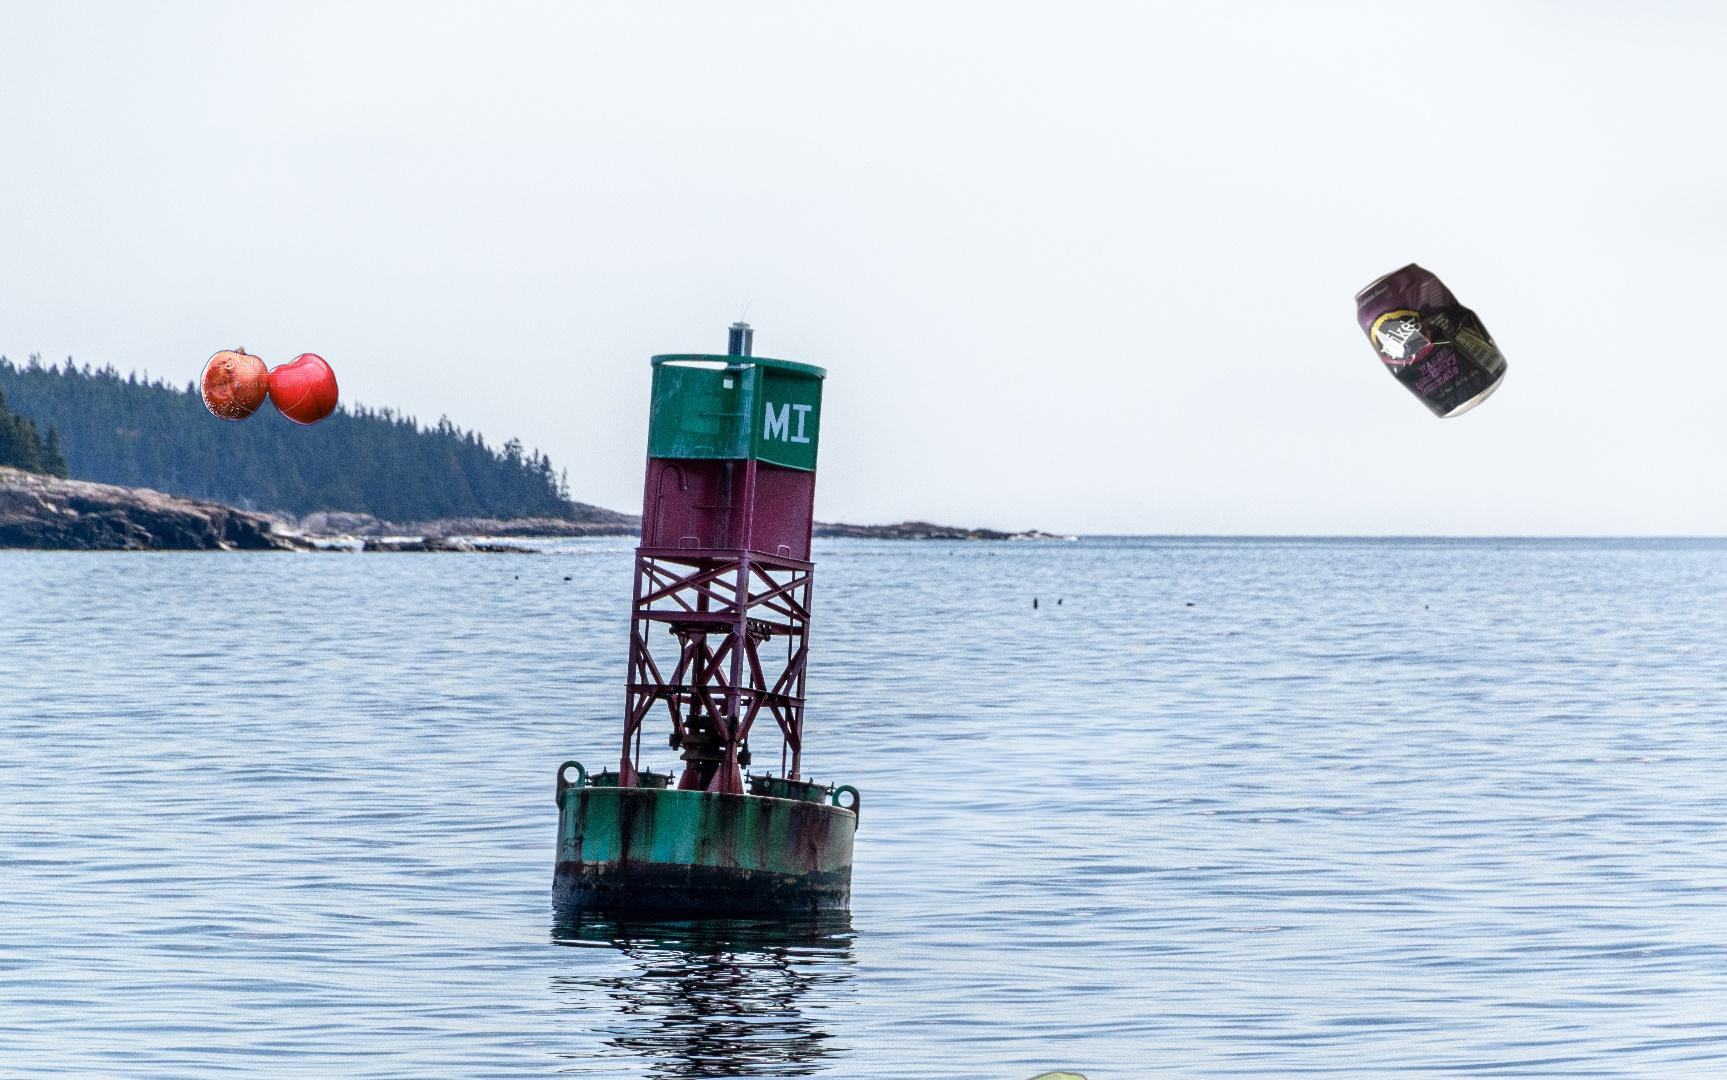biological: (197, 343, 341, 428)
metal-cans: (1351, 261, 1511, 422), (947, 1065, 1102, 1080)
